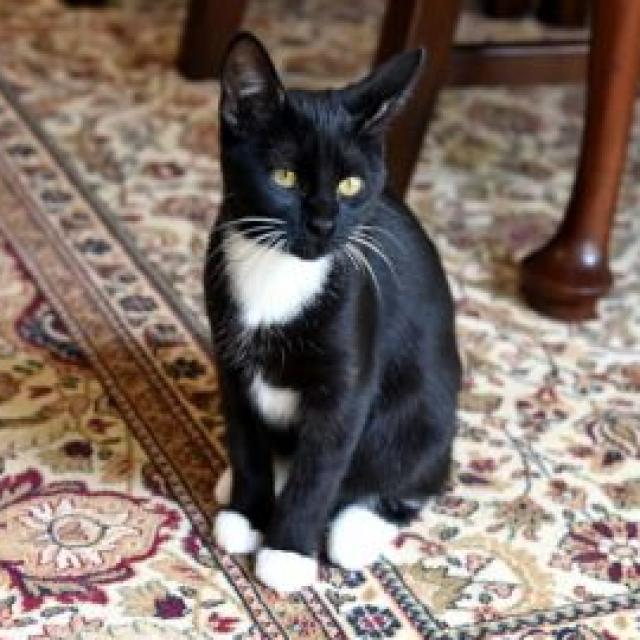Tuxedo: (197, 30, 464, 597)
